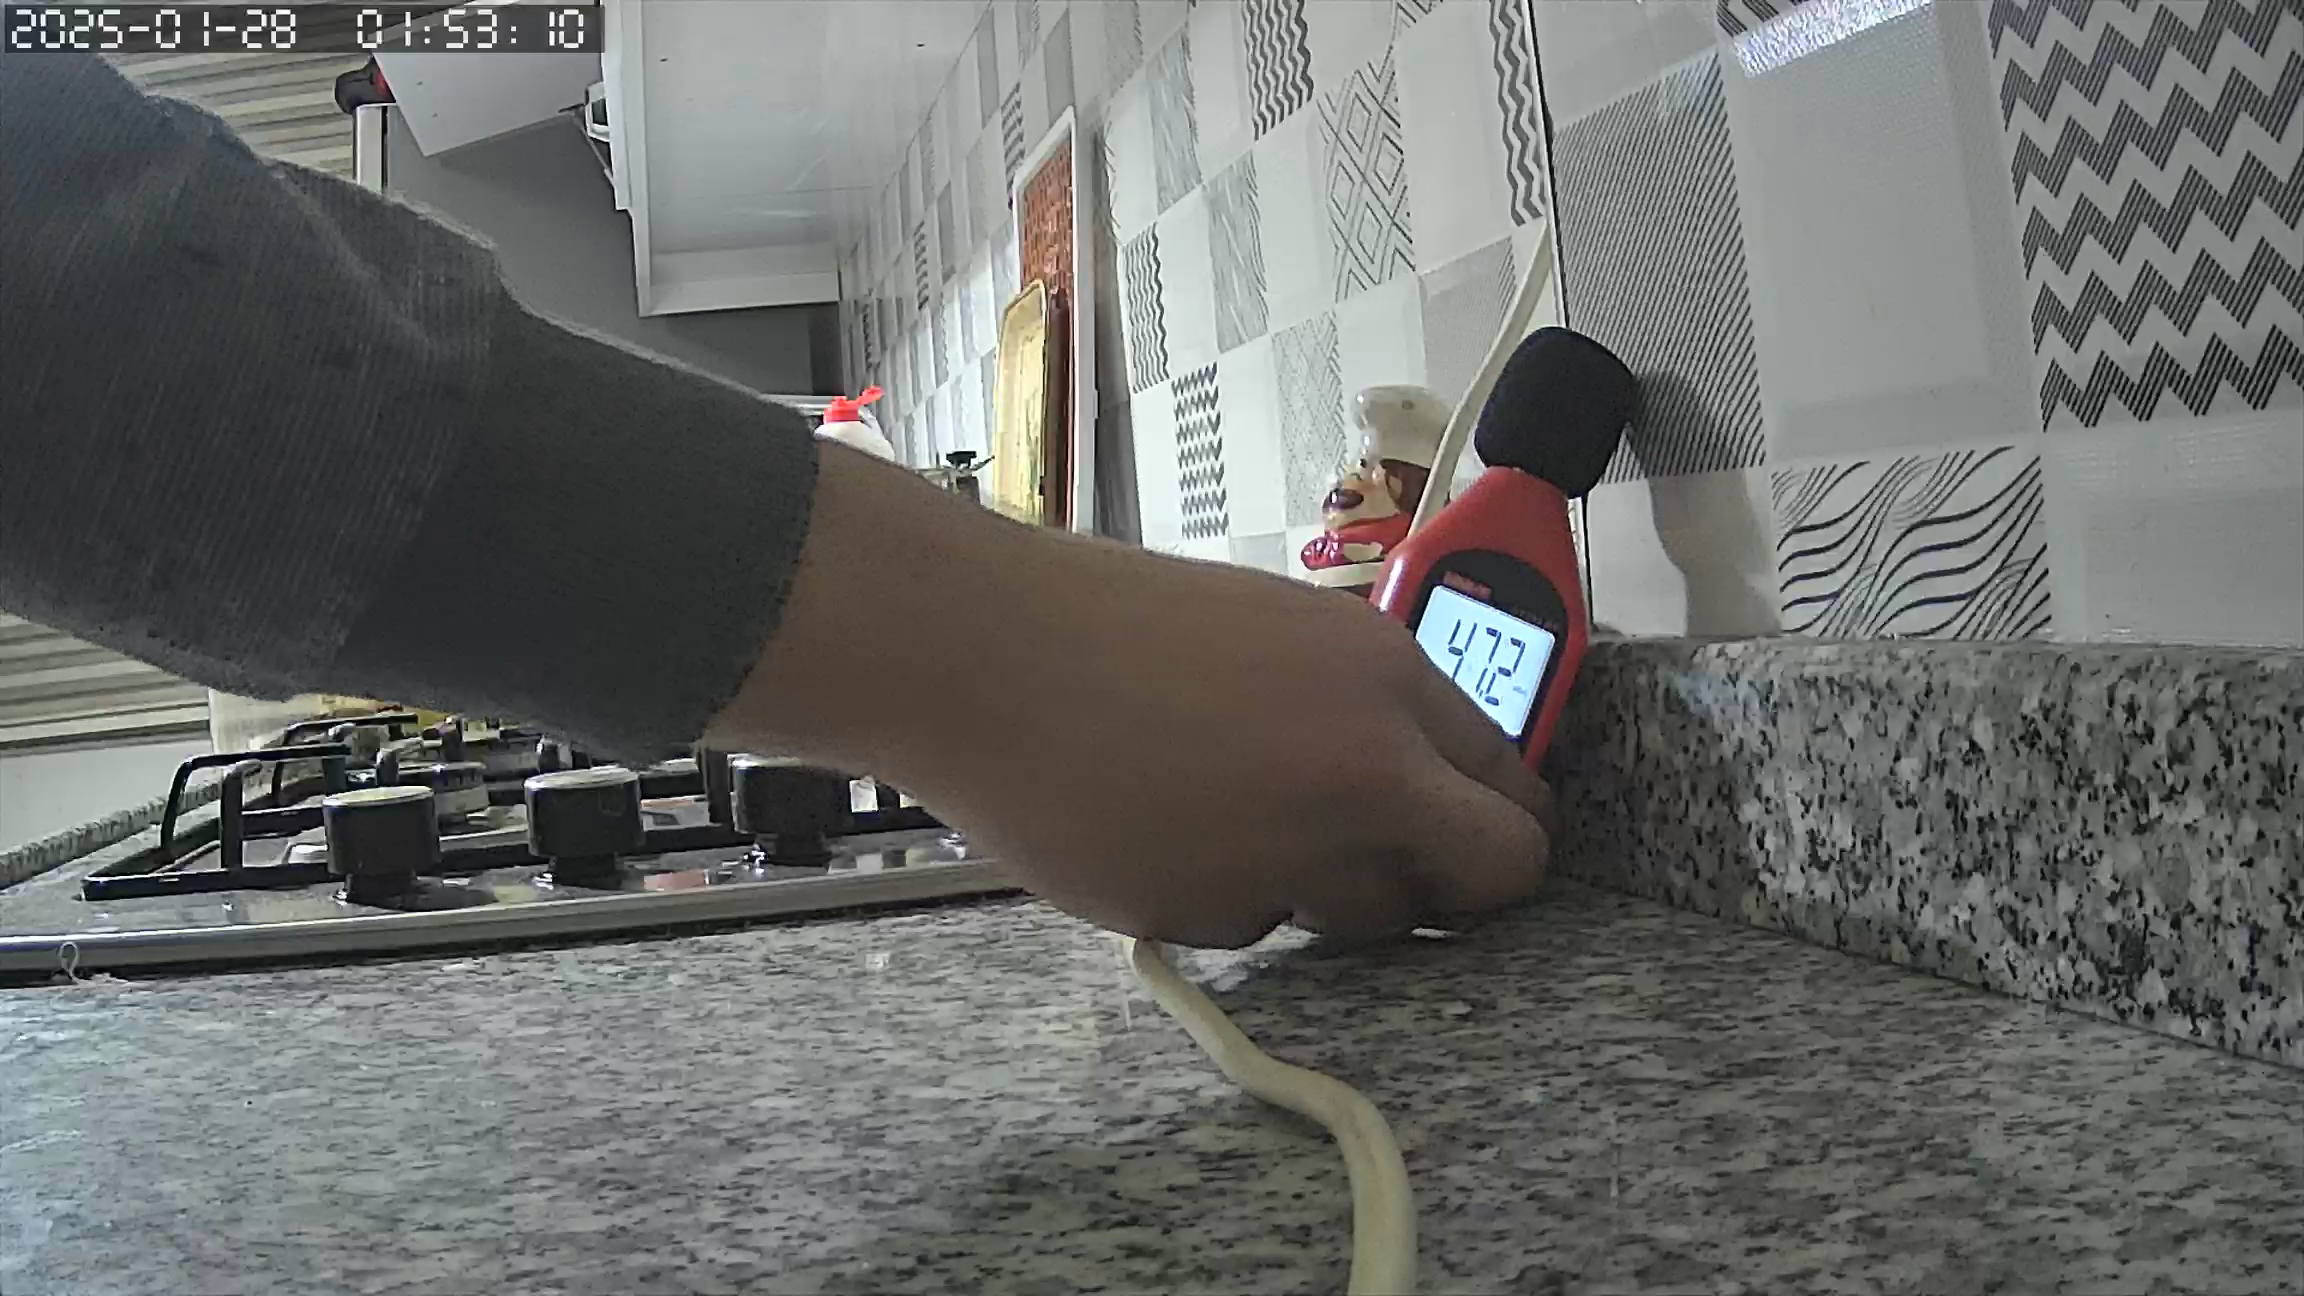screen: (1399, 584, 1559, 745)
